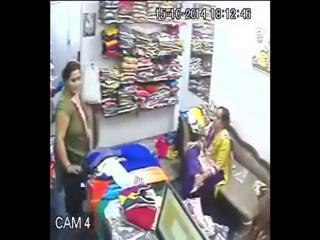Normal: (54, 61, 97, 221)
